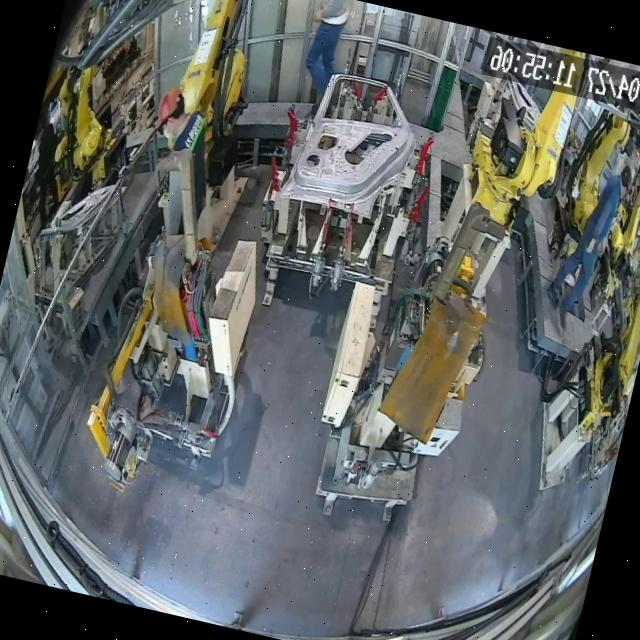Person: (544, 154, 634, 320), (136, 83, 230, 224), (292, 0, 360, 121)
